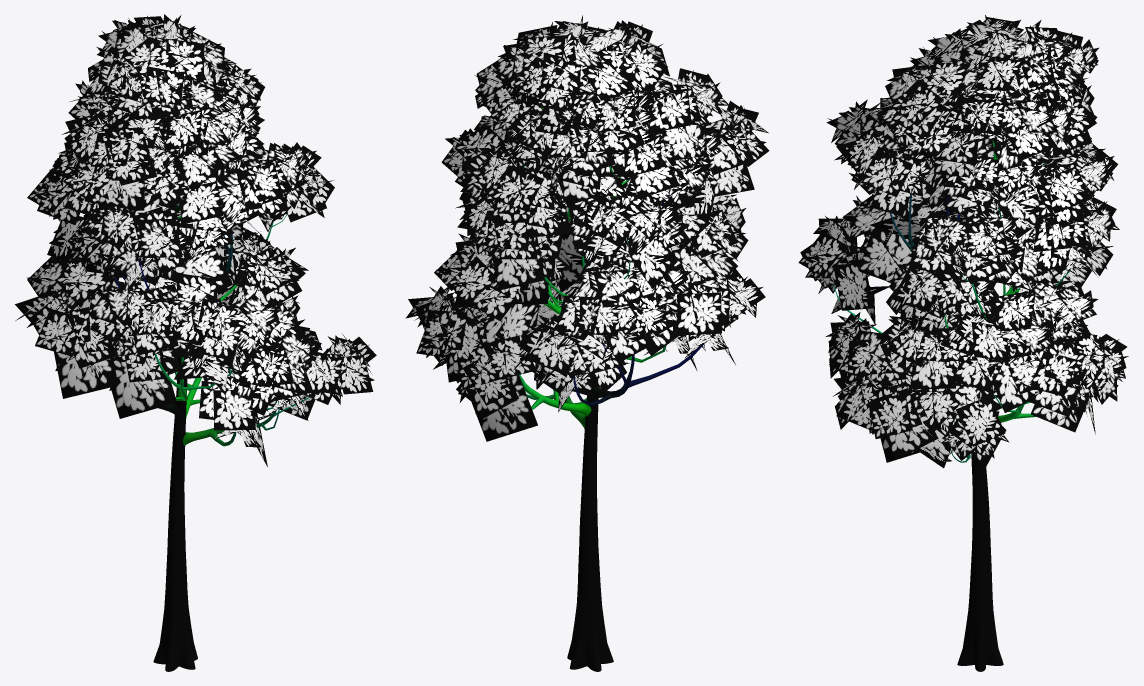
Rendered from tree_tutorial.fbx.
3 renders of one model, left to right at view 1: azimuth 30°, elevation 25°; view 2: azimuth 150°, elevation 25°; view 3: azimuth 270°, elevation 25°, orthographic. The views are drawn at different scales.
Parts seen in each view (by area): view 1: leaves a_1, _0; view 2: leaves a_1, _0; view 3: leaves a_1, _0.
Boxes of the visible parts, x1,y1,x2,y2 form: leaves a_1: (15, 14, 376, 467); _0: (114, 205, 309, 671); leaves a_1: (405, 15, 769, 441); _0: (519, 107, 703, 671); leaves a_1: (798, 15, 1128, 468); _0: (833, 140, 1076, 671).
Bounding box in the file's own units: 355 × 693 × 328.
